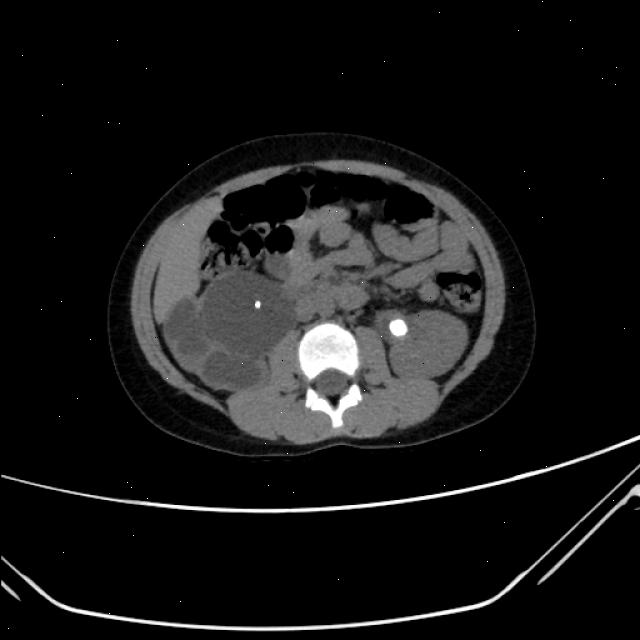kidneystone: (390, 319, 408, 336)
